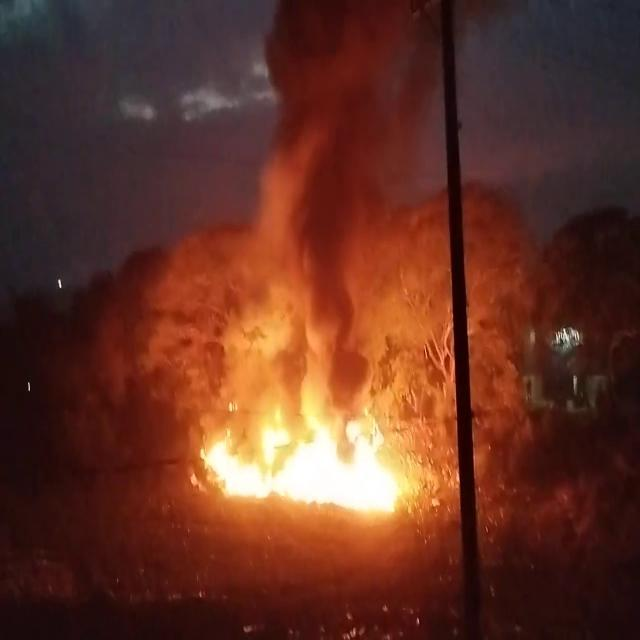Fire: (194, 391, 426, 527)
Smoke: (120, 0, 556, 414)
